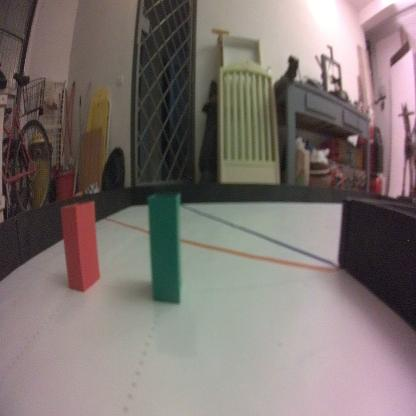green: (147, 184, 184, 310)
red: (58, 197, 102, 295)
